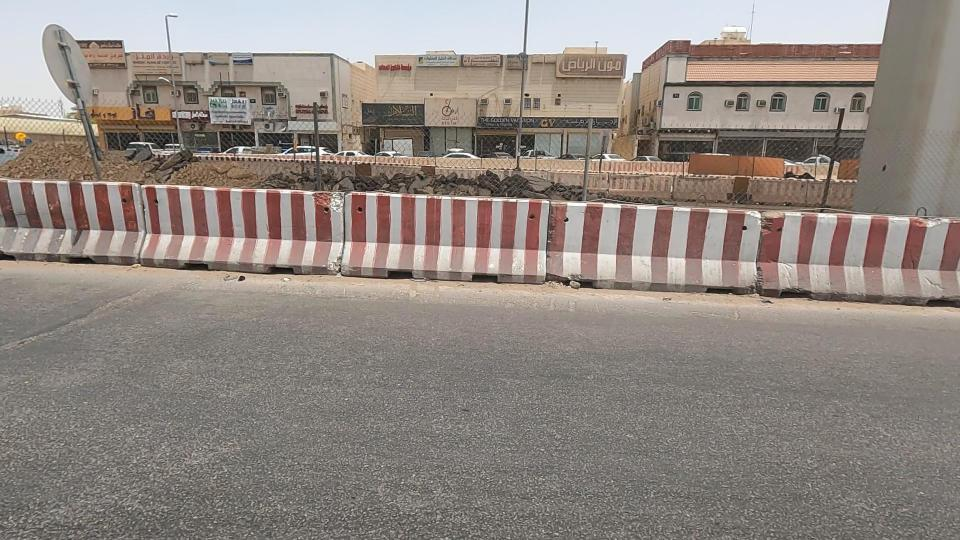CONSTRUCTION_ROAD: (545, 130, 945, 364), (0, 112, 441, 318), (301, 101, 631, 333)
